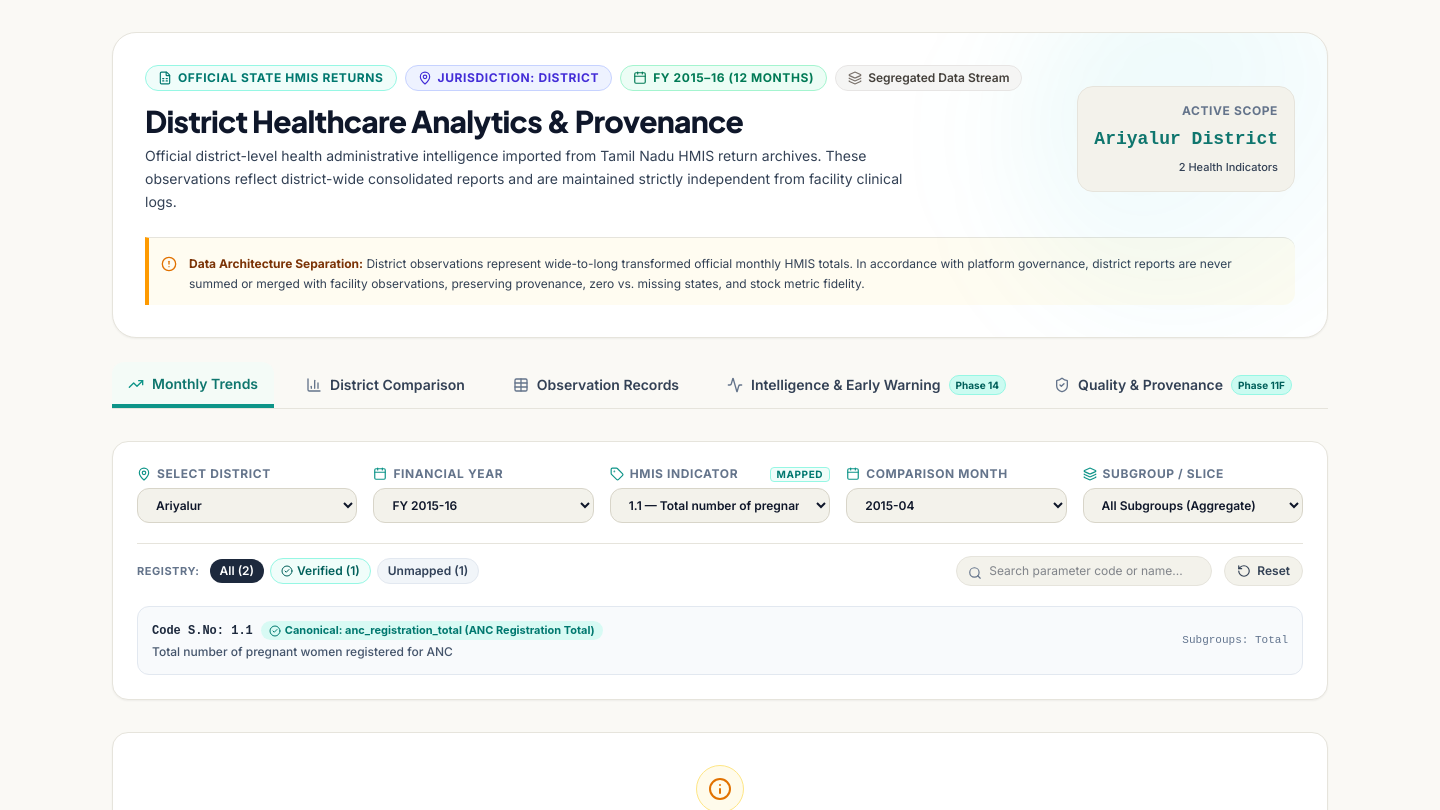
Scenario: DistrictsPage Component (Phases 11E–12E) › switches to Quality & Provenance tab and displays Phase 11F & 12B verified registry audit
Expected: the text "Quality & Provenance" is shown, [1078,375,1223,395]
Click the button "Quality & Provenance Phase 11F". click: (1173,385)
box: [1038,362,1308,408]
(page scrolled)
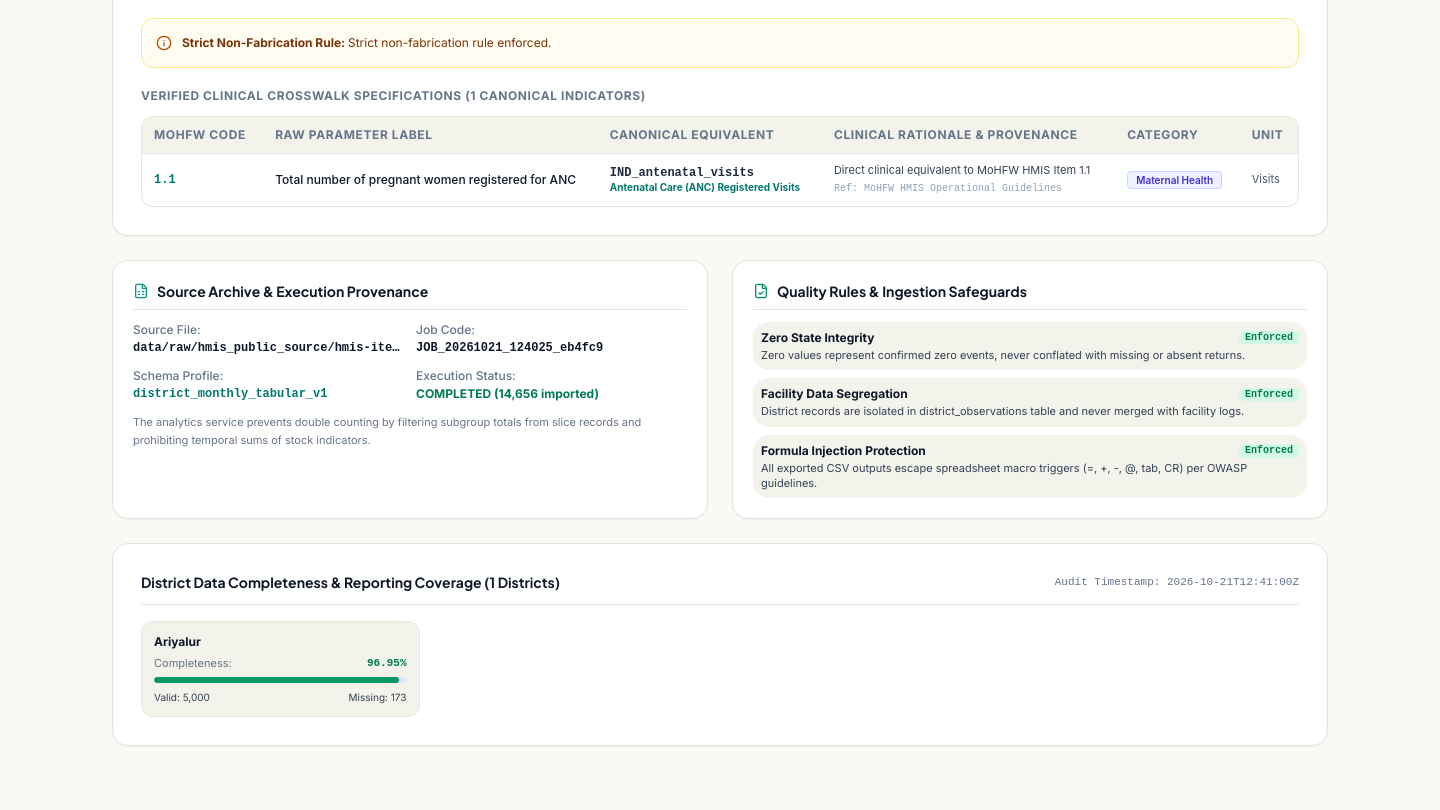
Now the text "Strict Non-Fabrication Rule:" is shown, box [182,35,348,50]
Now the text "Formula Injection Protection" is shown, box [761,443,926,459]
